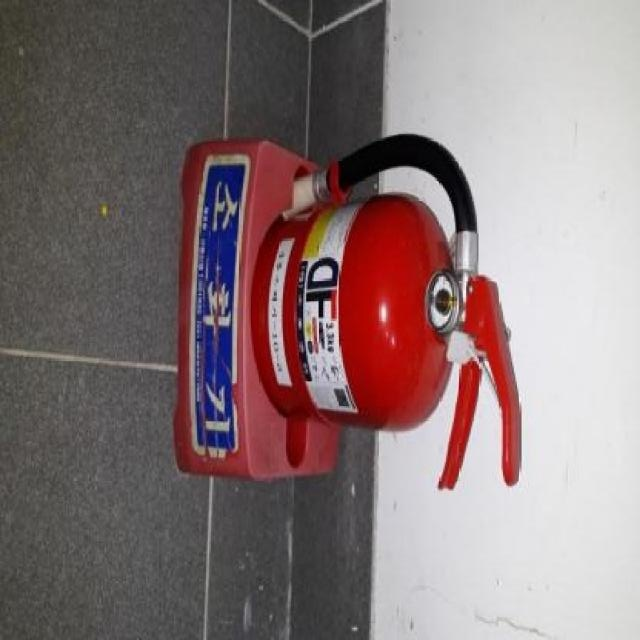fire extinguisher: (250, 132, 522, 492)
